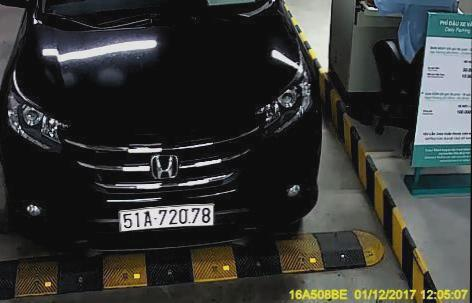License_Plate: (118, 202, 214, 232)
